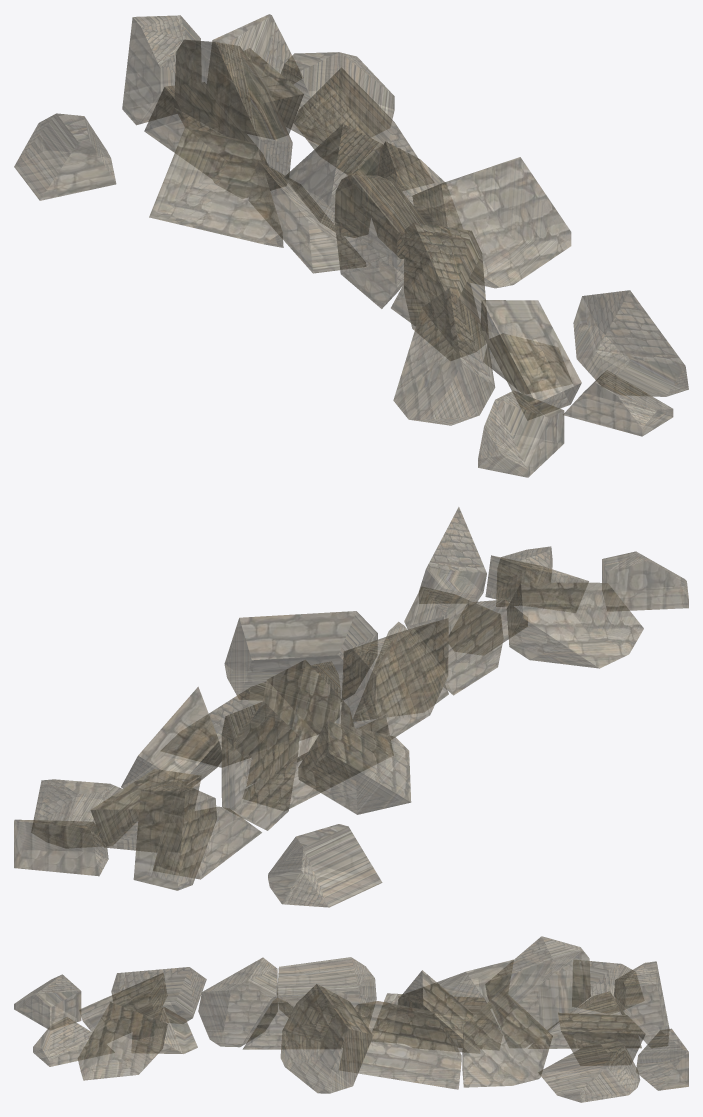
The model's file is BreakWallLarge_000019.obj.
The picture shows the model from 3 angles, top to bottom: view 1: azimuth 30°, elevation 25°; view 2: azimuth 150°, elevation 25°; view 3: azimuth 270°, elevation 25°; orthographic projection. The views are drawn at different scales.
Parts seen in each view (by area): view 1: Cube.057_cell.014_Cube.057_cell.013, Cube.057_cell.018_Cube.057_cell.017, Cube.057_cell.017_Cube.057_cell.016, Cube.057_cell.021_Cube.057_cell.020, Cube.057_cell.010_Cube.057_cell.009, Cube.057_cell.013_Cube.057_cell.012, Cube.057_cell.007_Cube.057_cell.006, Cube.057_cell.020_Cube.057_cell.019, Cube.057_cell.012_Cube.057_cell.011, Cube.057_cell.011_Cube.057_cell.010, Cube.057_cell_Cube.057_cell.022, Cube.057_cell.003_Cube.057_cell.002 (+10 smaller); view 2: Cube.057_cell.018_Cube.057_cell.017, Cube.057_cell.021_Cube.057_cell.020, Cube.057_cell.013_Cube.057_cell.012, Cube.057_cell.004_Cube.057_cell.003, Cube.057_cell.014_Cube.057_cell.013, Cube.057_cell.017_Cube.057_cell.016, Cube.057_cell_Cube.057_cell.022, Cube.057_cell.003_Cube.057_cell.002, Cube.057_cell.010_Cube.057_cell.009, Cube.057_cell.001_Cube.057_cell.000, Cube.057_cell.012_Cube.057_cell.011, Cube.057_cell.009_Cube.057_cell.008 (+10 smaller); view 3: Cube.057_cell.004_Cube.057_cell.003, Cube.057_cell.014_Cube.057_cell.013, Cube.057_cell.018_Cube.057_cell.017, Cube.057_cell.020_Cube.057_cell.019, Cube.057_cell.013_Cube.057_cell.012, Cube.057_cell.010_Cube.057_cell.009, Cube.057_cell_Cube.057_cell.022, Cube.057_cell.007_Cube.057_cell.006, Cube.057_cell.012_Cube.057_cell.011, Cube.057_cell.021_Cube.057_cell.020, Cube.057_cell.016_Cube.057_cell.015, Cube.057_cell.009_Cube.057_cell.008 (+10 smaller).
Boxes of the visible parts, x1,y1,x2,y2 form: Cube.057_cell.014_Cube.057_cell.013: (174, 39, 292, 198); Cube.057_cell.018_Cube.057_cell.017: (412, 157, 571, 288); Cube.057_cell.017_Cube.057_cell.016: (149, 127, 283, 247); Cube.057_cell.021_Cube.057_cell.020: (393, 288, 494, 425); Cube.057_cell.010_Cube.057_cell.009: (404, 222, 488, 360); Cube.057_cell.013_Cube.057_cell.012: (334, 174, 439, 308); Cube.057_cell.007_Cube.057_cell.006: (573, 290, 688, 396); Cube.057_cell.020_Cube.057_cell.019: (293, 67, 433, 190); Cube.057_cell.012_Cube.057_cell.011: (272, 52, 394, 144); Cube.057_cell.011_Cube.057_cell.010: (480, 300, 581, 419); Cube.057_cell_Cube.057_cell.022: (284, 124, 382, 237); Cube.057_cell.003_Cube.057_cell.002: (122, 15, 200, 125); Cube.057_cell.018_Cube.057_cell.017: (224, 611, 377, 699); Cube.057_cell.021_Cube.057_cell.020: (506, 582, 643, 668); Cube.057_cell.013_Cube.057_cell.012: (341, 618, 448, 739); Cube.057_cell.004_Cube.057_cell.003: (161, 661, 340, 767); Cube.057_cell.014_Cube.057_cell.013: (221, 701, 298, 830); Cube.057_cell.017_Cube.057_cell.016: (298, 721, 411, 814); Cube.057_cell_Cube.057_cell.022: (247, 660, 354, 785); Cube.057_cell.003_Cube.057_cell.002: (133, 781, 216, 890); Cube.057_cell.010_Cube.057_cell.009: (404, 586, 503, 695); Cube.057_cell.001_Cube.057_cell.000: (268, 824, 382, 907); Cube.057_cell.012_Cube.057_cell.011: (31, 779, 139, 847); Cube.057_cell.009_Cube.057_cell.008: (243, 715, 393, 810); Cube.057_cell.004_Cube.057_cell.003: (339, 1001, 461, 1089); Cube.057_cell.014_Cube.057_cell.013: (485, 936, 590, 1047); Cube.057_cell.018_Cube.057_cell.017: (280, 984, 373, 1093); Cube.057_cell.020_Cube.057_cell.019: (462, 989, 552, 1087); Cube.057_cell.013_Cube.057_cell.012: (277, 957, 376, 1047); Cube.057_cell.010_Cube.057_cell.009: (198, 957, 277, 1047); Cube.057_cell_Cube.057_cell.022: (394, 970, 479, 1053); Cube.057_cell.007_Cube.057_cell.006: (77, 1002, 167, 1080); Cube.057_cell.012_Cube.057_cell.011: (538, 1039, 639, 1102); Cube.057_cell.021_Cube.057_cell.020: (111, 967, 206, 1023); Cube.057_cell.016_Cube.057_cell.015: (558, 1012, 645, 1065); Cube.057_cell.009_Cube.057_cell.008: (372, 993, 502, 1049).
Size of the model in its own units: 29.89 by 11.1 by 70.33.
Materials: 2 (2 with a texture image).
